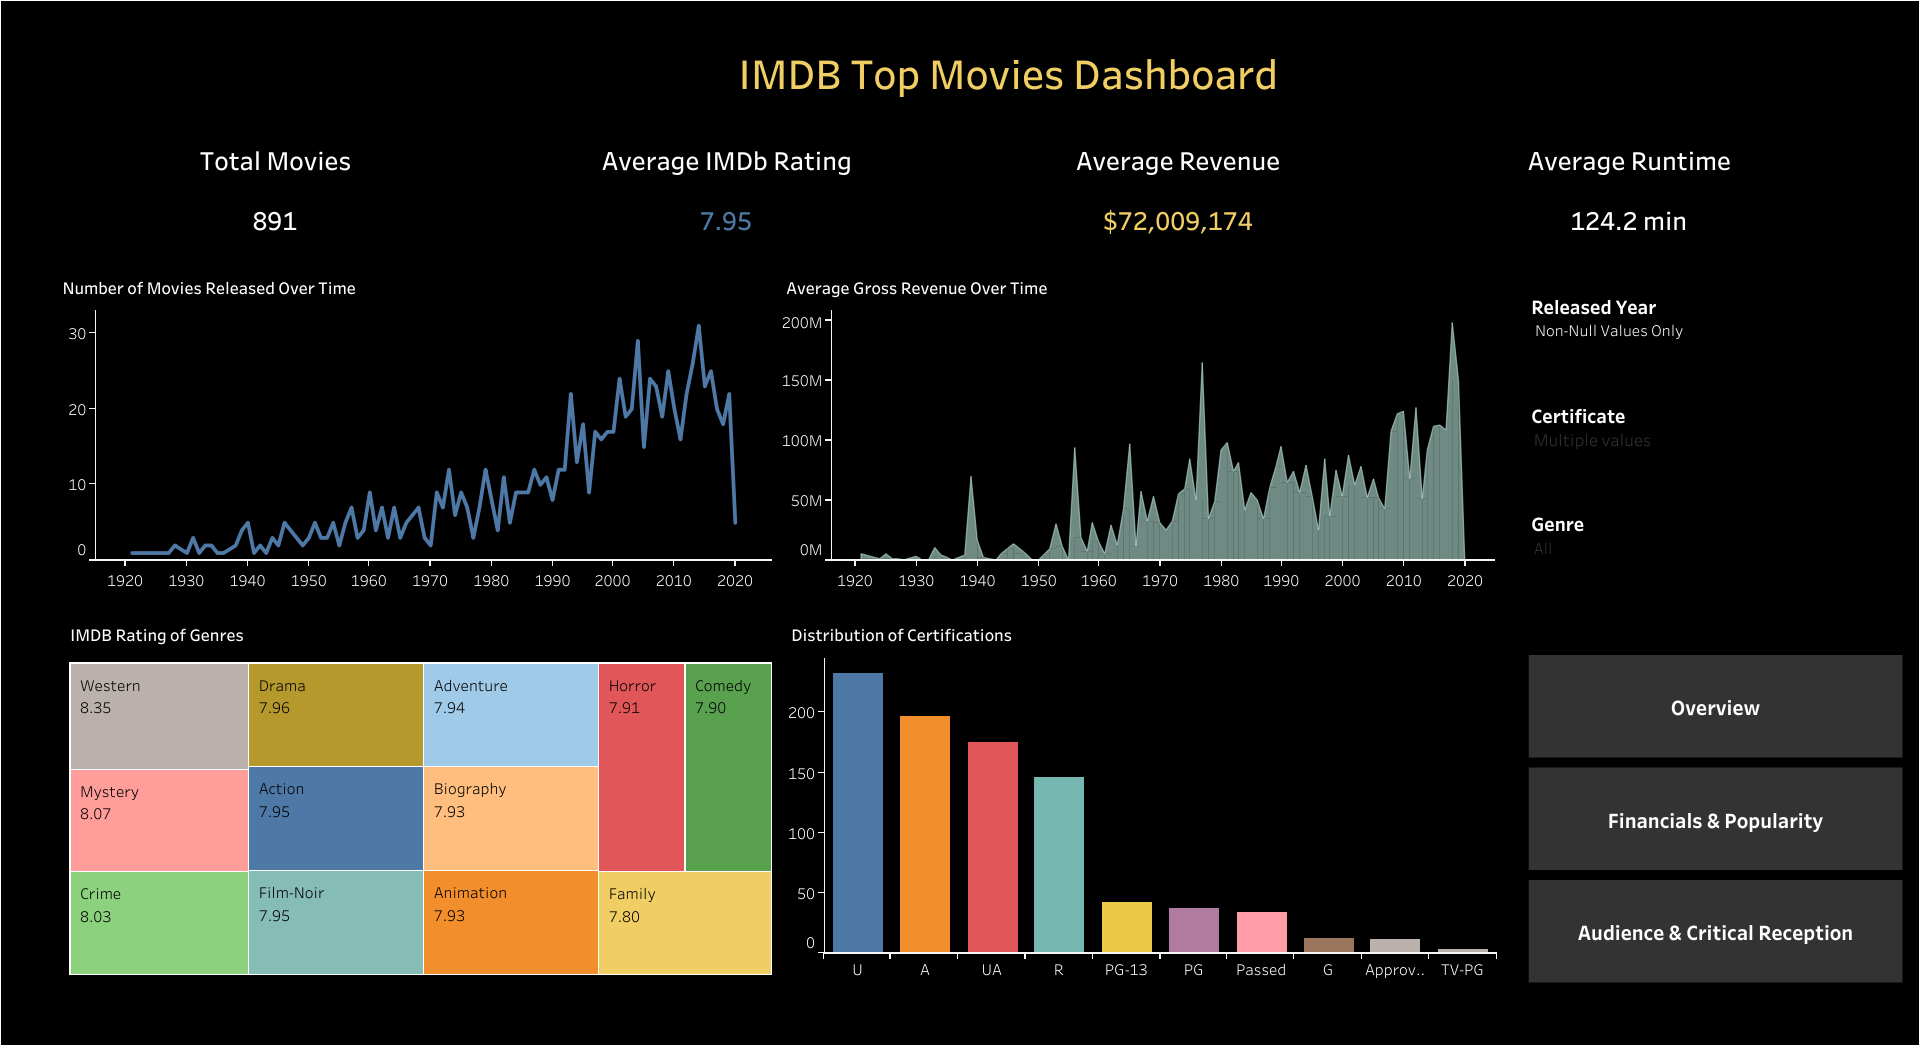

This screenshot's page, from the dashboard's own definition file:
{"tool":"tableau","page":{"name":"Overview","canvas":[1000,1000],"units":"permille","ordinal":2},"visuals":[{"type":"worksheet","title":"avg_rating","mark":"Automatic","box":[181.7,132.2,218.3,116]},{"type":"worksheet","title":"no_of_movies","mark":"Automatic","box":[23.3,133.4,137.5,107.2]},{"type":"worksheet","title":"avg_revenue","mark":"Automatic","box":[428.3,134.7,177.5,116]},{"type":"worksheet","title":"avg_runtime","mark":"Automatic","box":[627.5,134.7,177.5,116]},{"type":"worksheet","title":"year_filter","mark":"Automatic","box":[825.8,134.7,161.7,108.5]},{"type":"filter","title":"year_filter","param":"[federated.1eyr98r086vg6k12vvkg207lsm0p].[none:Released_Year:qk]","box":[836.7,145.9,133.3,94.8]},{"type":"worksheet","title":"certificate_filter","mark":"Automatic","box":[839.2,241.9,130.8,94.8]},{"type":"filter","title":"certificate_filter","param":"[federated.1eyr98r086vg6k12vvkg207lsm0p].[none:Certificate:nk]","box":[838.3,254.4,142.5,81]},{"type":"worksheet","title":"genre_filter","mark":"Automatic","box":[837.5,341.7,150,64.8]},{"type":"filter","title":"genre_filter","param":"[federated.1eyr98r086vg6k12vvkg207lsm0p].[none:Genre - Split 1:nk]","box":[837.5,344.1,149.2,76.1]}]}

Visuals, with their boxes on the dashboard's canvas, which has no fixed pixel size, in thousandths of its width and height (x1, y1, x2, y2). These are canvas units, not pixel positions in the 1919x1045 screenshot, which may show the page scaled, cropped or inside an application window:
"avg_rating" worksheet: bbox(182, 132, 400, 248)
"no_of_movies" worksheet: bbox(23, 133, 161, 241)
"avg_revenue" worksheet: bbox(428, 135, 606, 251)
"avg_runtime" worksheet: bbox(628, 135, 805, 251)
"year_filter" worksheet: bbox(826, 135, 988, 243)
"year_filter" filter: bbox(837, 146, 970, 241)
"certificate_filter" worksheet: bbox(839, 242, 970, 337)
"certificate_filter" filter: bbox(838, 254, 981, 335)
"genre_filter" worksheet: bbox(838, 342, 988, 406)
"genre_filter" filter: bbox(838, 344, 987, 420)
